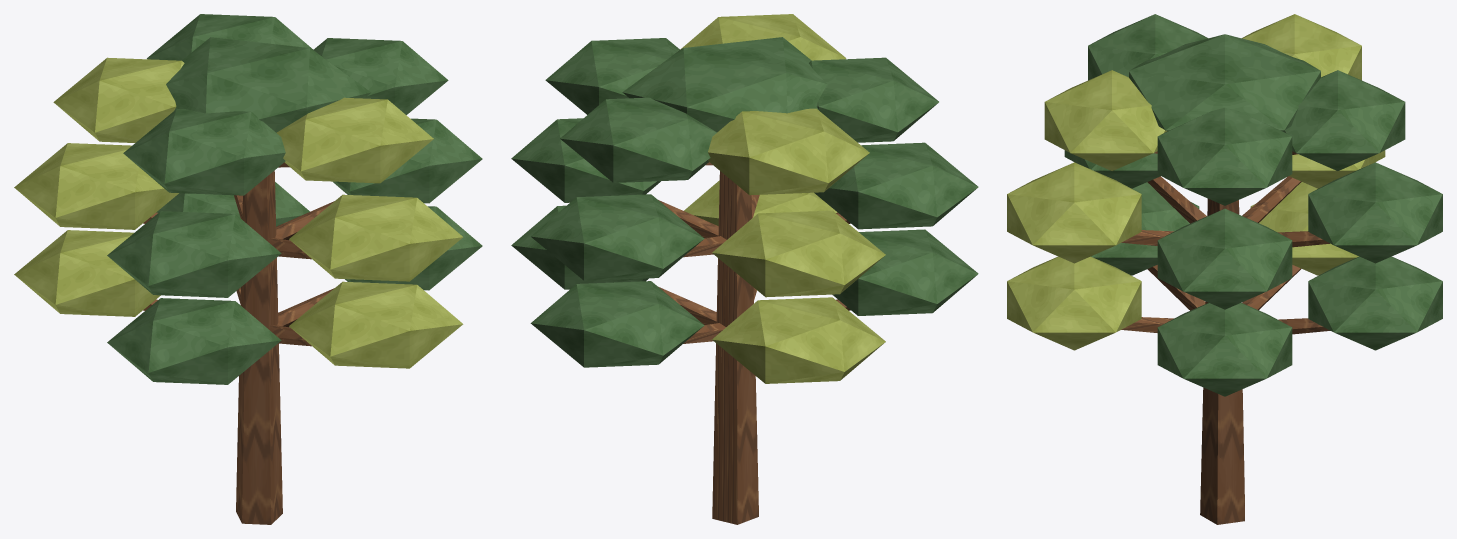
File: arvore-araucaria-v03.gltf
3 views of the same model, side by side, from view 1: azimuth 30°, elevation 25°; view 2: azimuth 150°, elevation 25°; view 3: azimuth 270°, elevation 25° (orthographic).
Parts seen in each view (by area): view 1: tronco-galhos-copa; view 2: tronco-galhos-copa; view 3: tronco-galhos-copa.
Part boxes in pixels (bbox=[...]): tronco-galhos-copa: bbox=[14, 14, 482, 524]; tronco-galhos-copa: bbox=[511, 14, 978, 524]; tronco-galhos-copa: bbox=[1007, 14, 1442, 524].
Size of the model in its own units: 3.89 by 4.45 by 3.85.
1 material, 1 textured.
